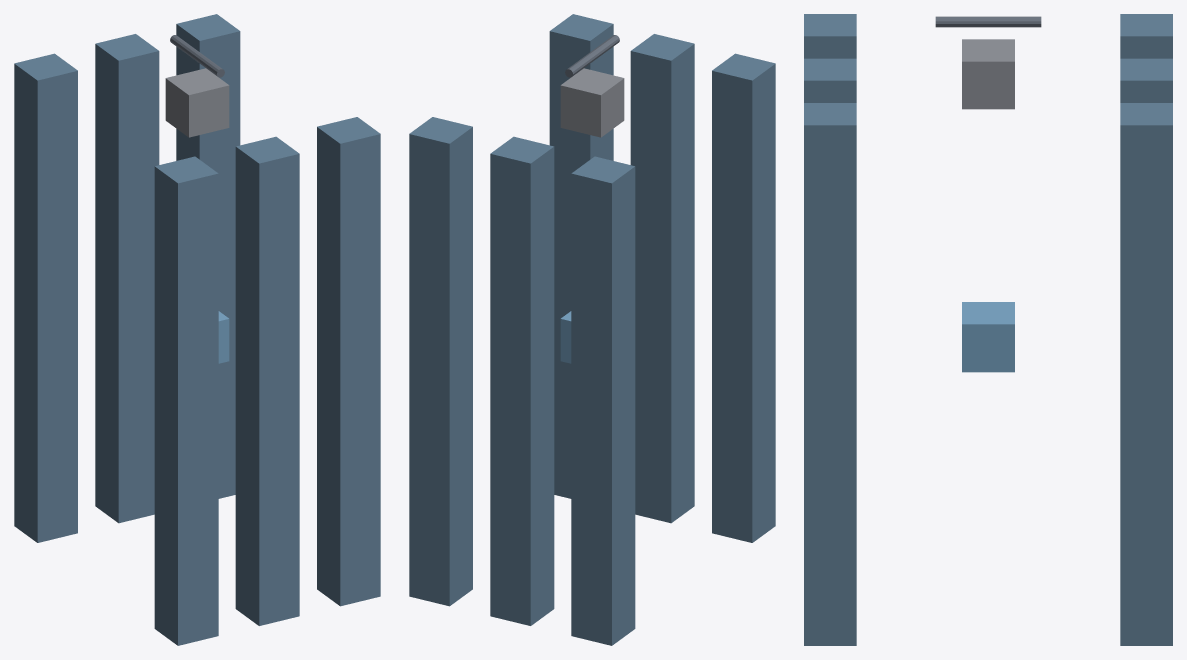
The model's file is bld_office_tower.glb.
The picture shows the model from 3 angles, left to right: view 1: azimuth 30°, elevation 25°; view 2: azimuth 150°, elevation 25°; view 3: azimuth 270°, elevation 25°; orthographic projection. The views are drawn at different scales.
Visible parts, largest first — view 1: world; view 2: world; view 3: world.
Part boxes in pixels (box(x1,y1,x2,y2)): world: box(14, 14, 380, 645); world: box(409, 14, 775, 645); world: box(804, 14, 1172, 645).
Size of the model in its own units: 5 by 12 by 7.
